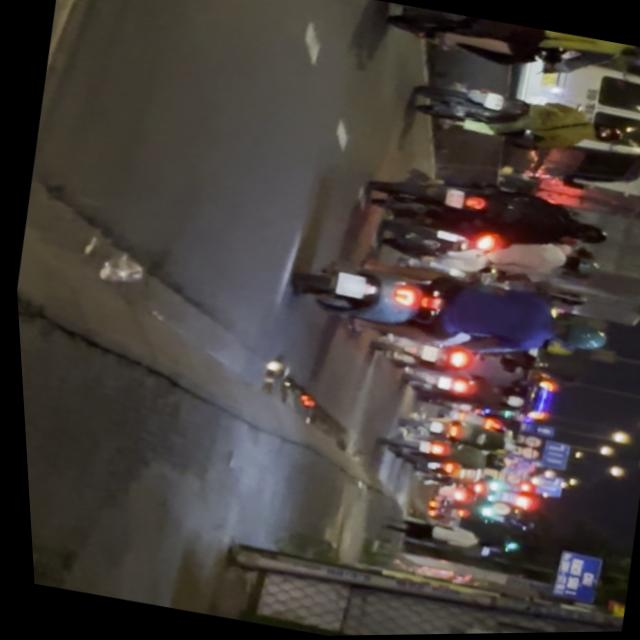helmet: (547, 315, 608, 355), (625, 46, 640, 66)
licenseplate: (277, 238, 616, 383), (370, 0, 640, 98)
nohelmet: (331, 271, 366, 300)
